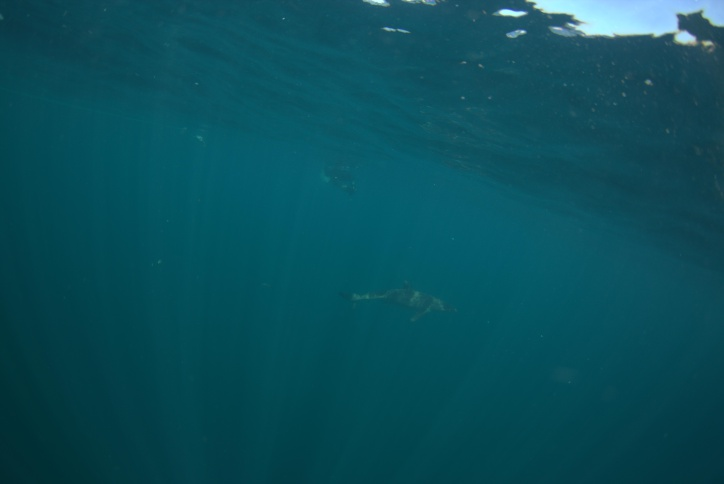Sedoso: (320, 272, 468, 322)
